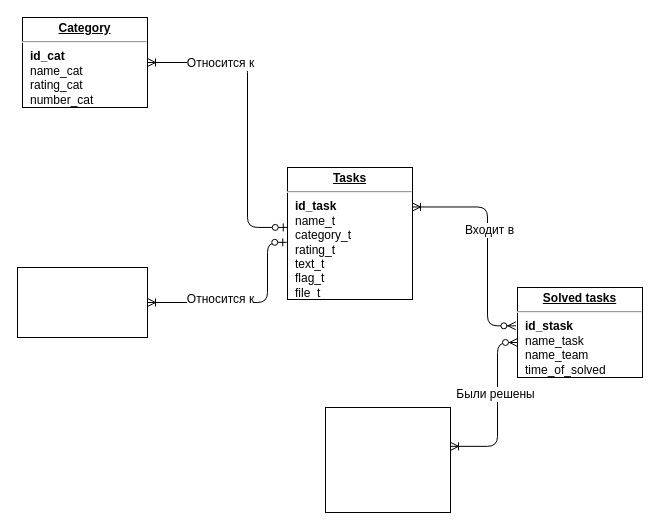
This 660x530 diagram has some shape labels left out. The centre of each missing label's shape, as x and y in pixels:
"Rating id_rat name_rat" belongs at (82,302).
"Teams id_team name_team password_team is_admin is_active" belongs at (387,459).
